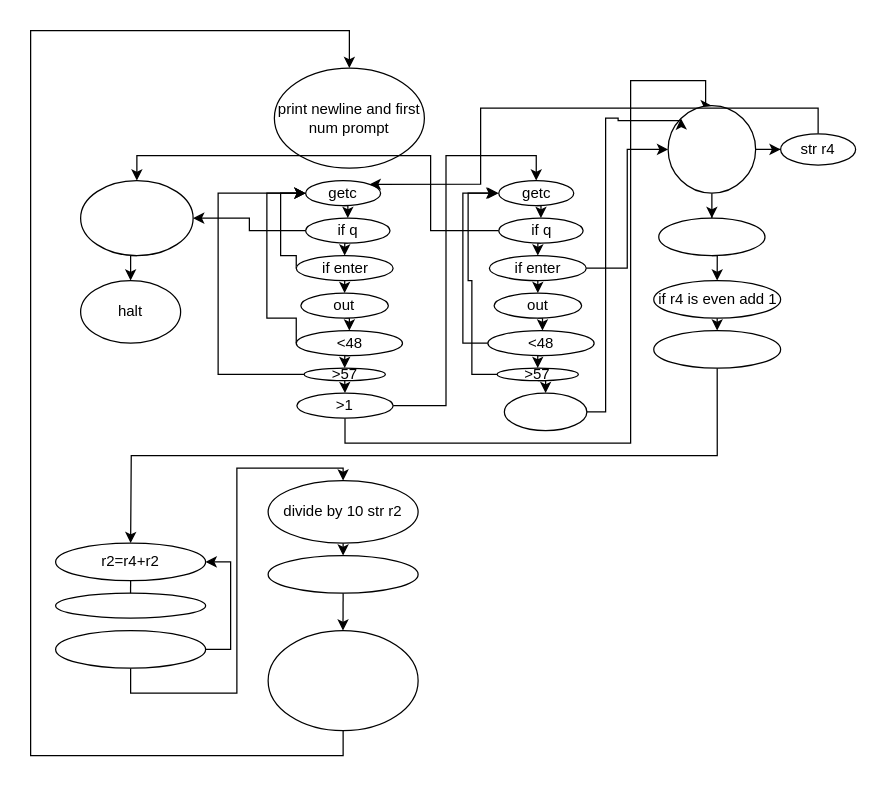
This 878x788 diagram has some shape labels left out. Each missing label, with the centre of its shape:
"add first *10 + sec" goes at [545,411].
"if first num" goes at [711,148].
"if r4-r5<=0" goes at [130,648].
"if r5 is even add 1" goes at [716,348].
"modulus 10 str r3" goes at [342,573].
"New line and print end message" goes at [136,217].
"nl print out end message out r2 + offset out r3+offset" goes at [342,680].
"r4=r4+2" goes at [130,605].
"str r5" goes at [711,236].
